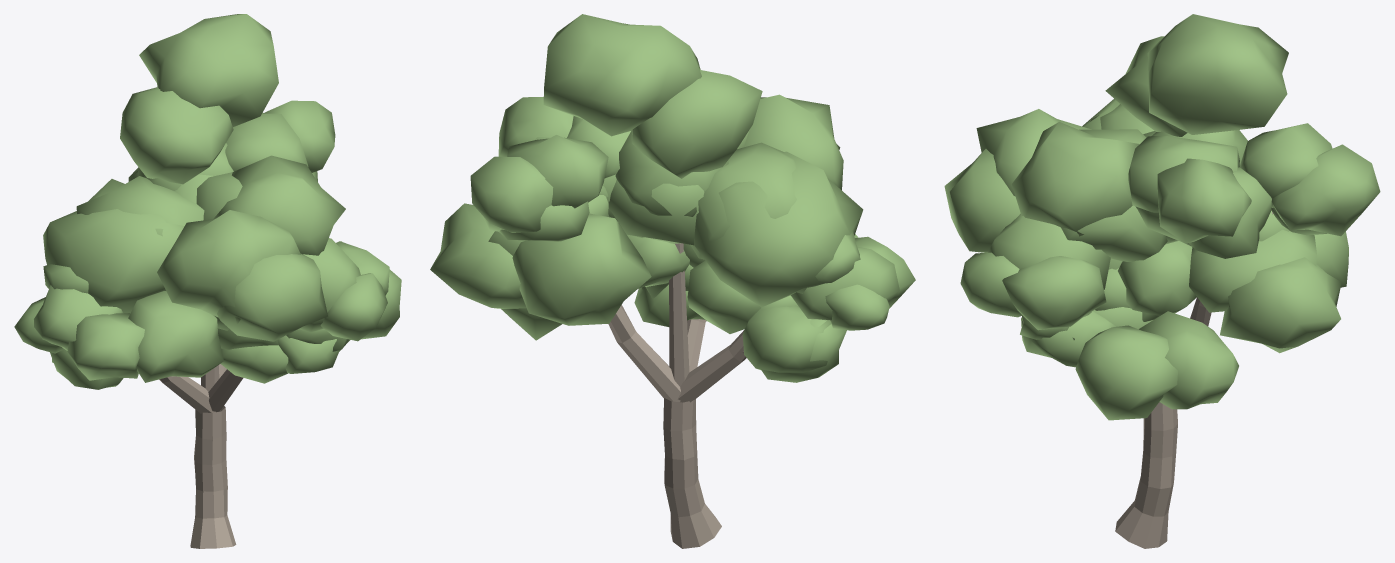
The model's file is Blender_Cottonwood_3.glb.
3 views of the same model, side by side, from view 1: azimuth 30°, elevation 25°; view 2: azimuth 150°, elevation 25°; view 3: azimuth 270°, elevation 25° (orthographic). The views are drawn at different scales.
Parts seen in each view (by area): view 1: Blender_Cottonwood_3; view 2: Blender_Cottonwood_3; view 3: Blender_Cottonwood_3.
Part boxes in pixels (left/top/right/bottom): Blender_Cottonwood_3: left=14, top=14, right=401, bottom=548; Blender_Cottonwood_3: left=430, top=14, right=915, bottom=548; Blender_Cottonwood_3: left=944, top=14, right=1380, bottom=548.
Size of the model in its own units: 22.1 by 28.31 by 20.86.
